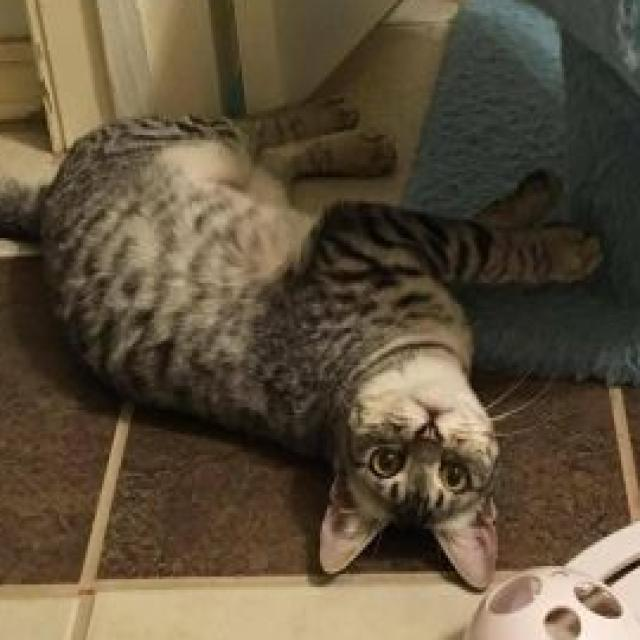Egyptian Mau: (0, 85, 607, 592)
